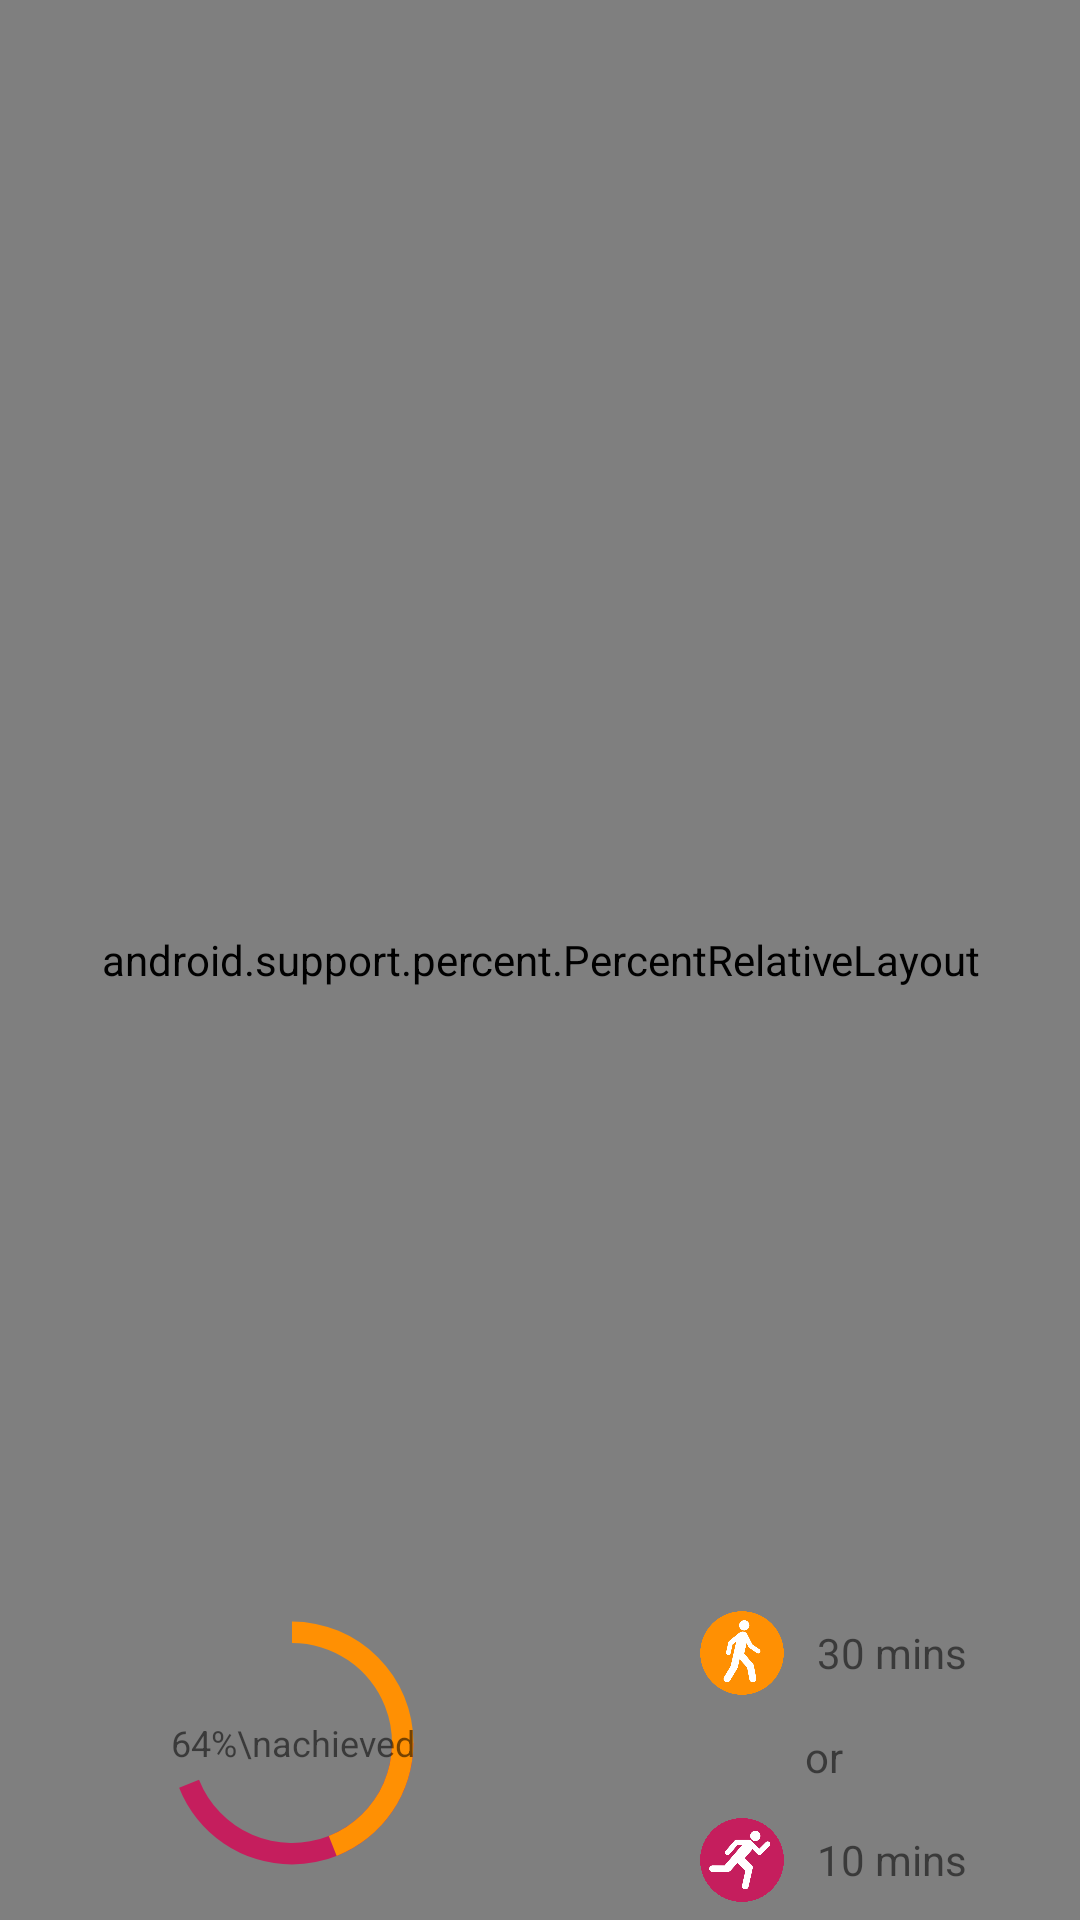

Named icons in this screenshot (1080×1920) and their bounding boxes, rect(x1, y1, x2, y2):
running: rect(700, 1818, 784, 1902)
walking: rect(700, 1611, 784, 1695)
